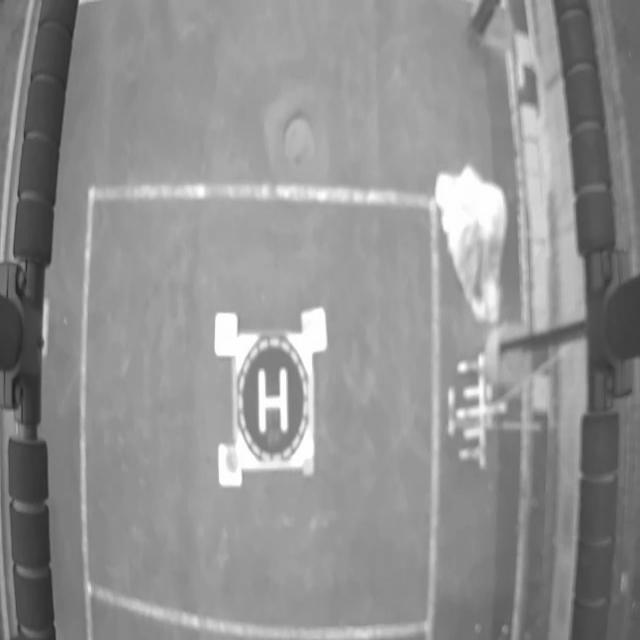Helipad: (257, 370, 288, 434)
